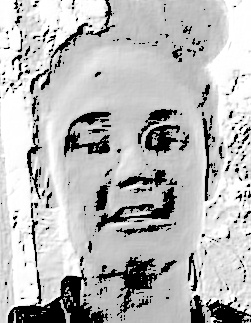nose_M_C: (113, 145, 156, 196)
